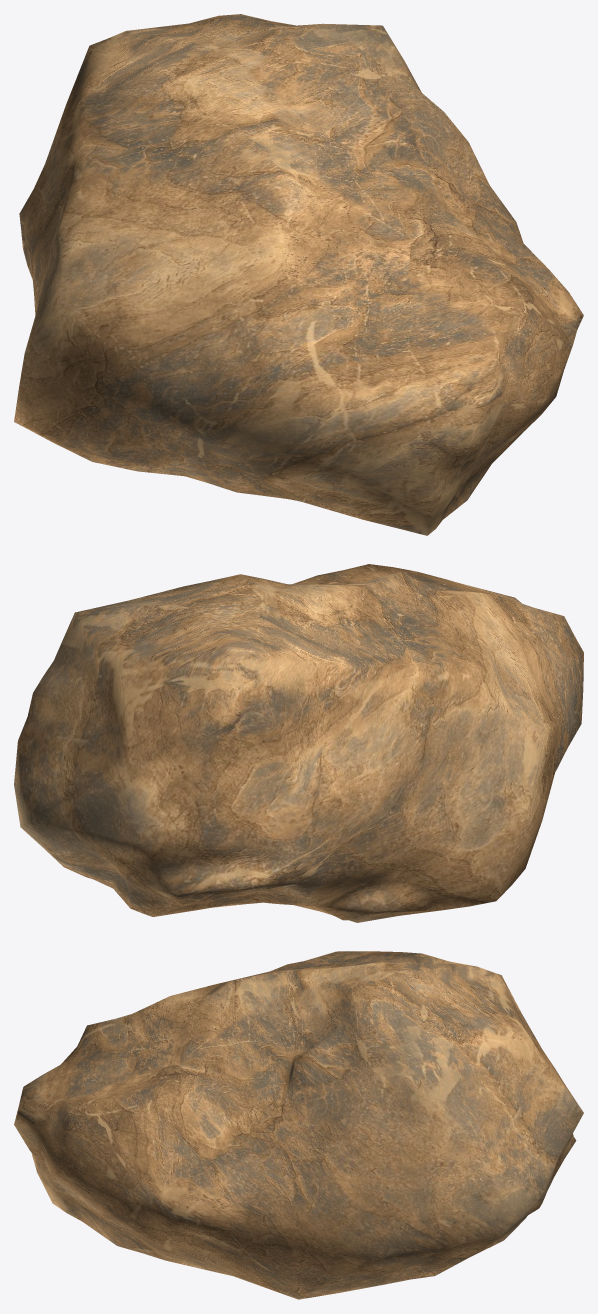
Rendered from desert_rock_a.glb.
3 views of the same model, one above another, from view 1: azimuth 30°, elevation 25°; view 2: azimuth 150°, elevation 25°; view 3: azimuth 270°, elevation 25° (orthographic). The views are drawn at different scales.
Parts seen in each view (by area): view 1: Cliff_Rock_Model; view 2: Cliff_Rock_Model; view 3: Cliff_Rock_Model.
Part boxes in pixels (bbox=[...]): Cliff_Rock_Model: bbox=[14, 14, 583, 535]; Cliff_Rock_Model: bbox=[14, 564, 583, 922]; Cliff_Rock_Model: bbox=[14, 951, 583, 1299].
Size of the model in its own units: 0.92 by 0.64 by 1.21.
Materials: 1 (1 with a texture image).
